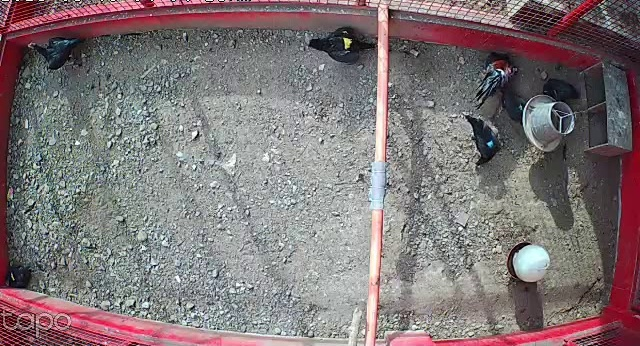Chicken: (304, 24, 382, 67), (28, 28, 87, 76), (461, 112, 504, 167), (497, 89, 529, 124), (539, 76, 583, 101), (4, 262, 35, 290)
Rooster: (471, 47, 519, 107)
Saddle_Color_Blue: (487, 140, 494, 147)
Saddle_Color_Yellow: (342, 34, 355, 51)
